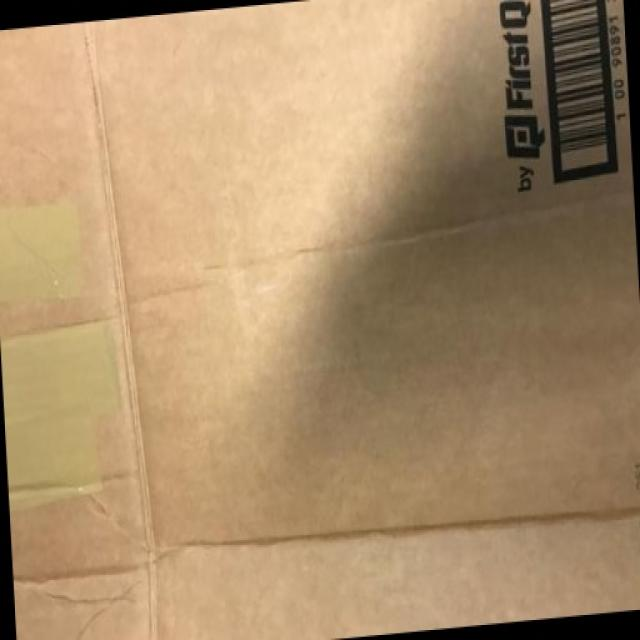carton: (29, 12, 624, 640)
